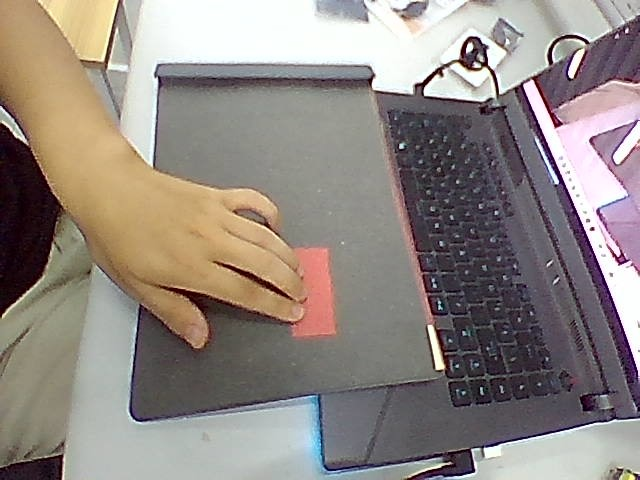card: (291, 249, 335, 338)
